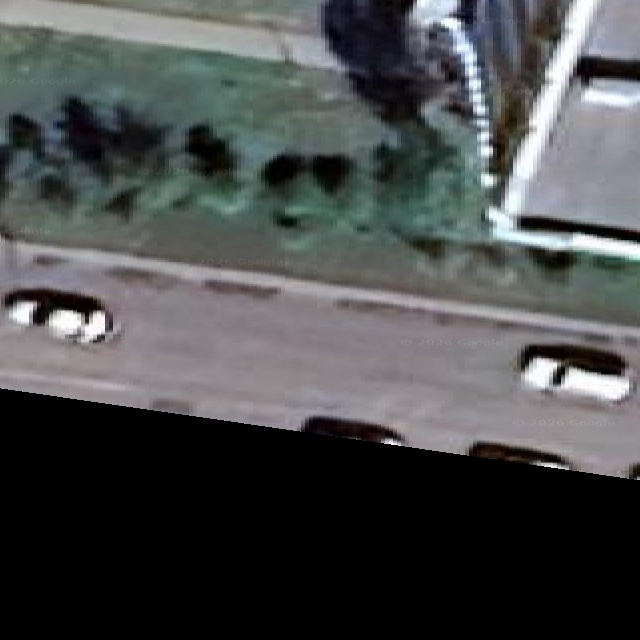car: (517, 344, 635, 402), (3, 287, 120, 342), (300, 415, 404, 444), (468, 442, 575, 470), (628, 463, 639, 479)
